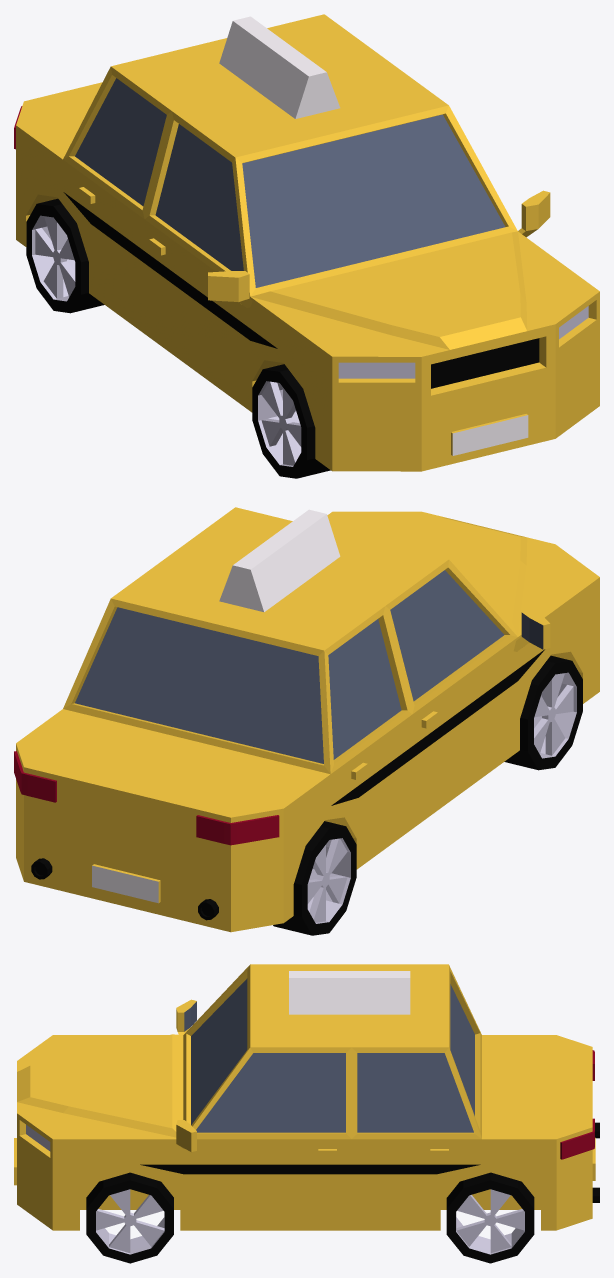
The model's file is Taxi.glb.
The picture shows the model from 3 angles, top to bottom: view 1: azimuth 30°, elevation 25°; view 2: azimuth 150°, elevation 25°; view 3: azimuth 270°, elevation 25°; orthographic projection. The views are drawn at different scales.
Parts seen in each view (by area): view 1: Taxi_body yellow_0, Taxi_windows_0, Taxi_body white_0, Taxi_body black_0, Taxi wheel front right_tires_0, Taxi wheel rear right_tires_0, Taxi wheel rear right_wheels_0, Taxi wheel front right_wheels_0, Taxi_headlights_0; view 2: Taxi_body yellow_0, Taxi_windows_0, Taxi_body white_0, Taxi_body black_0, Taxi wheel rear right_tires_0, Taxi wheel front right_tires_0, Taxi_rear lights_0, Taxi wheel rear right_wheels_0, Taxi wheel front right_wheels_0; view 3: Taxi_body yellow_0, Taxi_windows_0, Taxi_body white_0, Taxi_body black_0, Taxi wheel rear left_tires_0, Taxi wheel front left_tires_0, Taxi wheel front left_wheels_0, Taxi wheel rear left_wheels_0, Taxi_rear lights_0.
Boxes of the visible parts, x1,y1,x2,y2 form: Taxi_body yellow_0: (16, 14, 599, 471); Taxi_windows_0: (75, 78, 505, 287); Taxi_body white_0: (219, 16, 528, 455); Taxi_body black_0: (63, 192, 539, 388); Taxi wheel front right_tires_0: (252, 364, 330, 478); Taxi wheel rear right_tires_0: (26, 198, 104, 313); Taxi wheel rear right_wheels_0: (32, 215, 75, 301); Taxi wheel front right_wheels_0: (258, 381, 301, 466); Taxi_headlights_0: (338, 306, 588, 378); Taxi_body yellow_0: (16, 507, 599, 932); Taxi_windows_0: (75, 570, 543, 763); Taxi_body white_0: (92, 509, 340, 903); Taxi_body black_0: (31, 649, 544, 920); Taxi wheel rear right_tires_0: (273, 821, 356, 935); Taxi wheel front right_tires_0: (504, 655, 582, 770); Taxi_rear lights_0: (14, 751, 279, 845); Taxi wheel rear right_wheels_0: (307, 838, 350, 923); Taxi wheel front right_wheels_0: (534, 672, 576, 758); Taxi_body yellow_0: (14, 964, 595, 1230); Taxi_windows_0: (184, 978, 474, 1132); Taxi_body white_0: (289, 971, 410, 1014); Taxi_body black_0: (140, 1122, 599, 1202); Taxi wheel rear left_tires_0: (446, 1172, 534, 1263); Taxi wheel front left_tires_0: (86, 1172, 173, 1263); Taxi wheel front left_wheels_0: (96, 1189, 164, 1254); Taxi wheel rear left_wheels_0: (456, 1189, 524, 1254); Taxi_rear lights_0: (560, 1050, 594, 1159).
Size of the model in its own units: 2.81 by 2.32 by 5.23.
